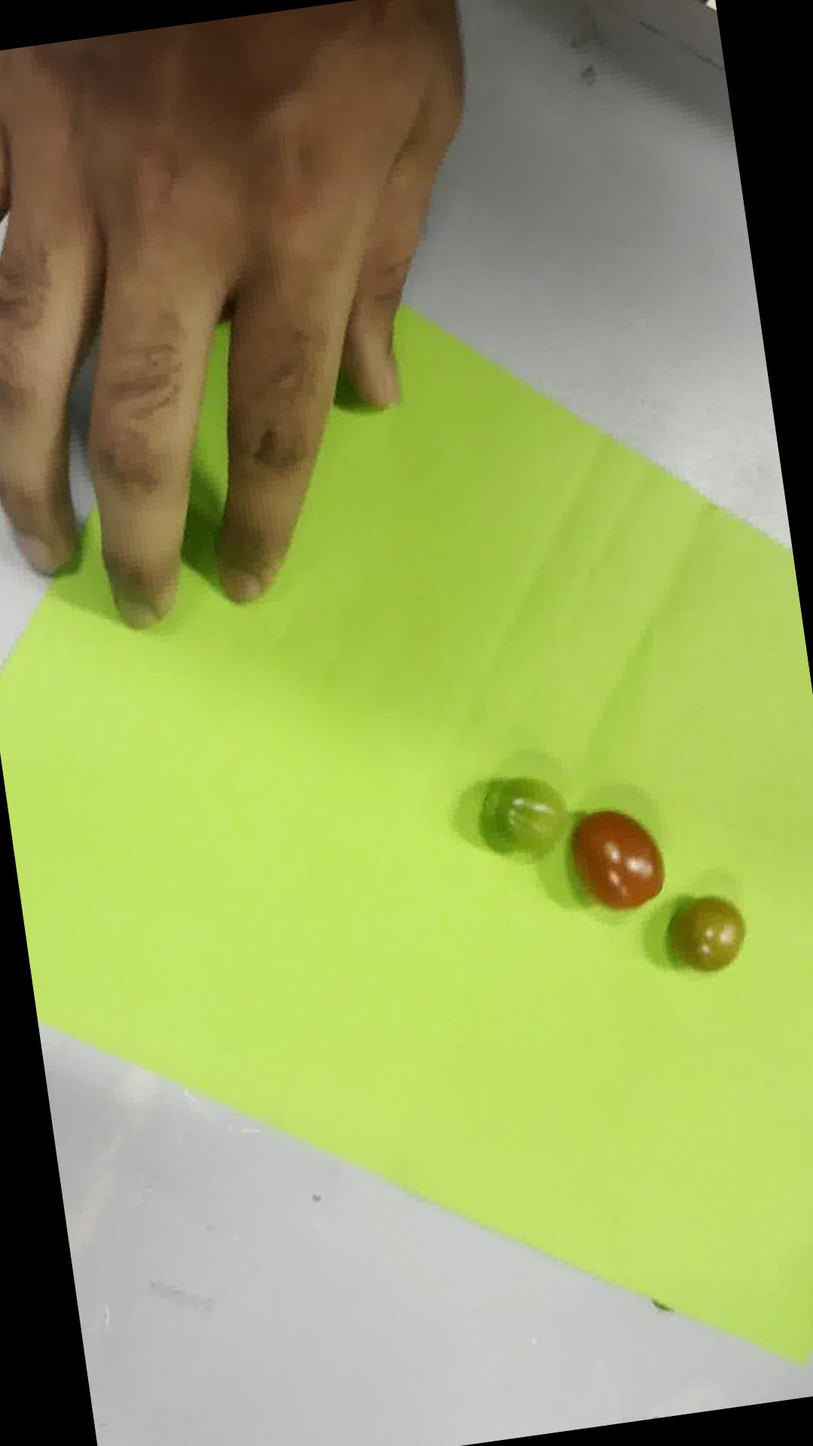green_cherry_tomato: (484, 778, 567, 853)
red_cherry_tomato: (571, 810, 664, 910)
yellow_cherry_tomato: (669, 896, 745, 970)
